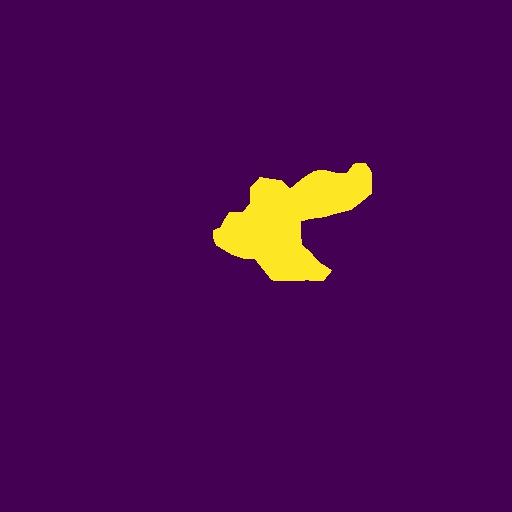Gliomia_tumour: (213, 163, 372, 281)
